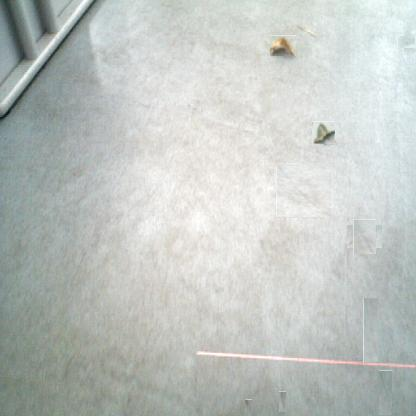dirty: (312, 121, 336, 144), (270, 35, 296, 56), (296, 24, 318, 38)
mark: (277, 163, 331, 218), (363, 298, 378, 362), (350, 222, 379, 251), (378, 370, 392, 415), (400, 33, 416, 51), (188, 101, 202, 115), (278, 391, 286, 412), (244, 399, 252, 416)
